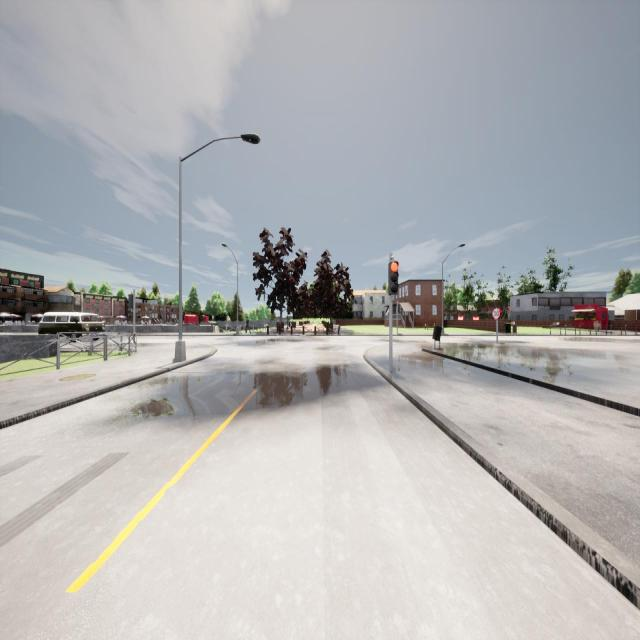Pedestrian: (245, 315, 251, 333)
Traffic_Signs: (492, 308, 501, 319)
Vehicle: (38, 312, 106, 343)
traffic_light: (388, 261, 398, 295), (128, 294, 134, 309)
